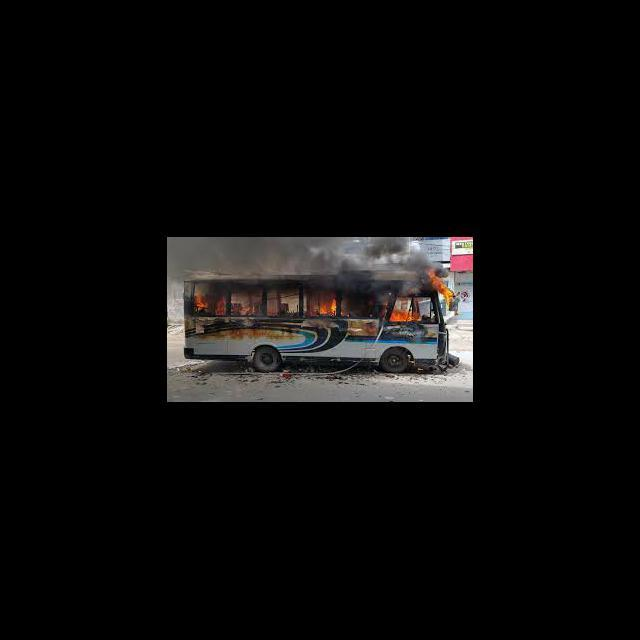Fire: (428, 274, 459, 309), (387, 308, 422, 323), (318, 296, 338, 316), (193, 291, 207, 312), (214, 298, 228, 318)
Smoke: (167, 238, 425, 272), (344, 274, 374, 316)
